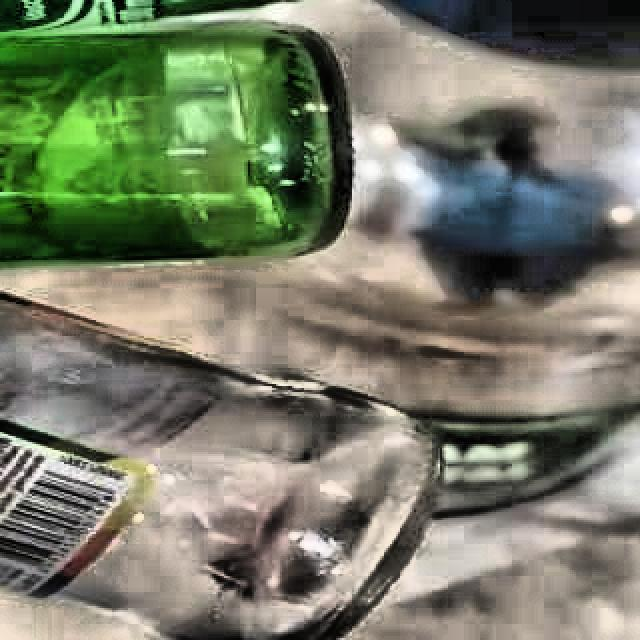glass: (0, 295, 437, 640)
